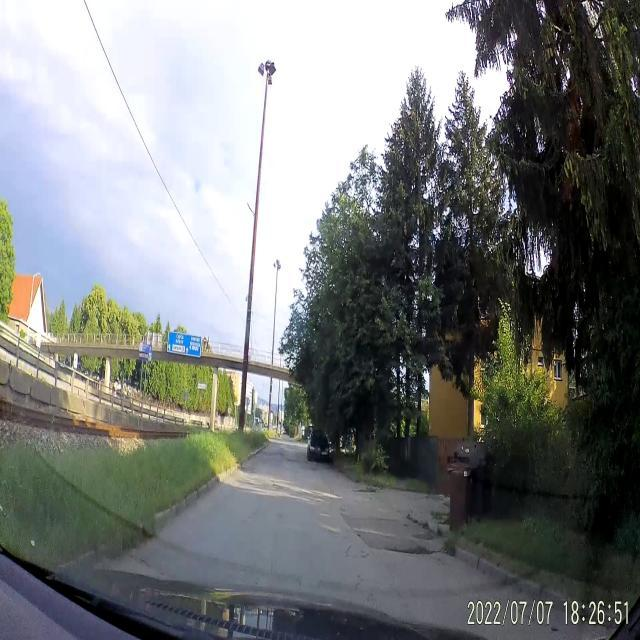Pothole: (380, 535, 442, 563)
